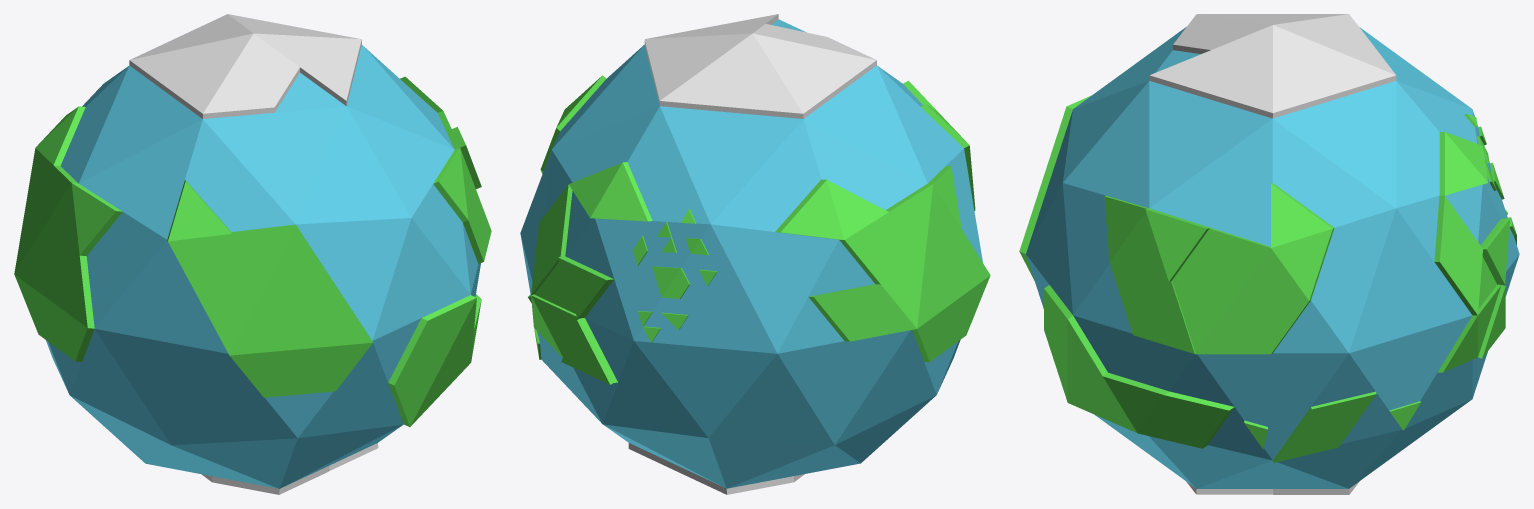
3 renders of one model, left to right at view 1: azimuth 30°, elevation 25°; view 2: azimuth 150°, elevation 25°; view 3: azimuth 270°, elevation 25°, orthographic. The views are drawn at different scales.
Visible parts, largest first — view 1: Icosphere.001; view 2: Icosphere.001; view 3: Icosphere.001.
Part boxes in pixels (x1,y1,x2,y2): Icosphere.001: [14, 14, 491, 494]; Icosphere.001: [520, 14, 990, 494]; Icosphere.001: [1019, 14, 1519, 494].
Bounding box in the file's own units: 562 × 589 × 583.
